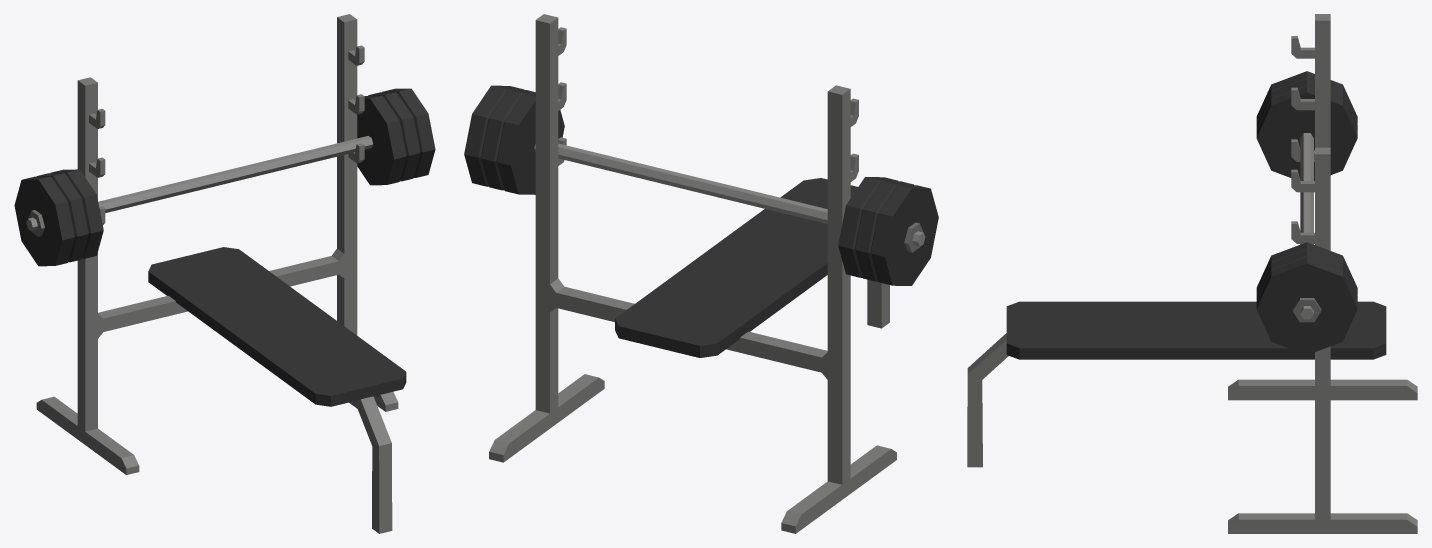
The model's file is SM_Props_Interior_Shop_Gym_WeightLiftBench.fbx.
3 renders of one model, left to right at view 1: azimuth 30°, elevation 25°; view 2: azimuth 150°, elevation 25°; view 3: azimuth 270°, elevation 25°, orthographic. The views are drawn at different scales.
Parts seen in each view (by area): view 1: SM_Props_Interior_Shop_Gym_WeightLiftBench, SM_Props_Interior_Shop_Gym_WeightLiftBench_Weight; view 2: SM_Props_Interior_Shop_Gym_WeightLiftBench, SM_Props_Interior_Shop_Gym_WeightLiftBench_Weight; view 3: SM_Props_Interior_Shop_Gym_WeightLiftBench, SM_Props_Interior_Shop_Gym_WeightLiftBench_Weight.
Part boxes in pixels (box(x1,y1,x2,y2)): SM_Props_Interior_Shop_Gym_WeightLiftBench: box(36, 14, 406, 533); SM_Props_Interior_Shop_Gym_WeightLiftBench_Weight: box(14, 88, 435, 266); SM_Props_Interior_Shop_Gym_WeightLiftBench: box(489, 14, 896, 533); SM_Props_Interior_Shop_Gym_WeightLiftBench_Weight: box(464, 85, 938, 285); SM_Props_Interior_Shop_Gym_WeightLiftBench: box(967, 14, 1417, 533); SM_Props_Interior_Shop_Gym_WeightLiftBench_Weight: box(1256, 71, 1357, 354).
Bounding box in the file's own units: 151 × 133 × 142.
